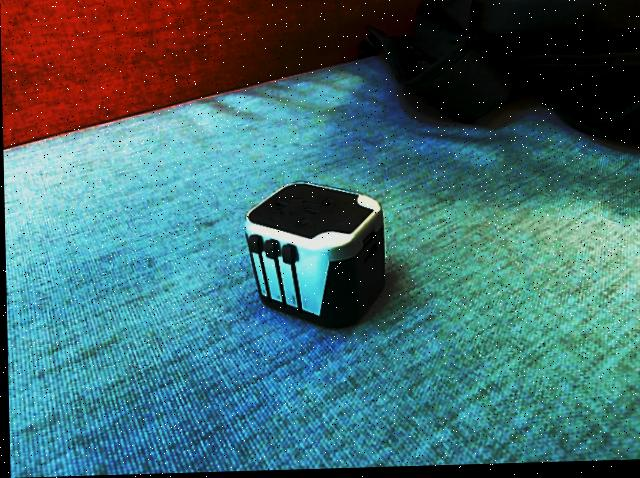adapter: (242, 181, 385, 332)
